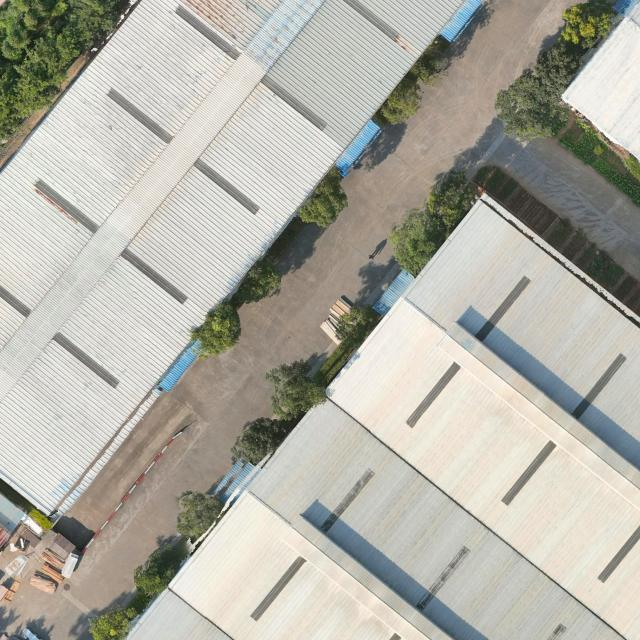Tree: (493, 68, 567, 138), (264, 357, 334, 422), (386, 206, 449, 278), (426, 169, 476, 238), (297, 163, 348, 230), (189, 299, 242, 360), (132, 544, 188, 600), (229, 417, 287, 468), (559, 0, 619, 46), (175, 489, 226, 540), (533, 41, 582, 93), (231, 260, 281, 304), (334, 302, 377, 353), (380, 76, 423, 126), (88, 603, 138, 640)
